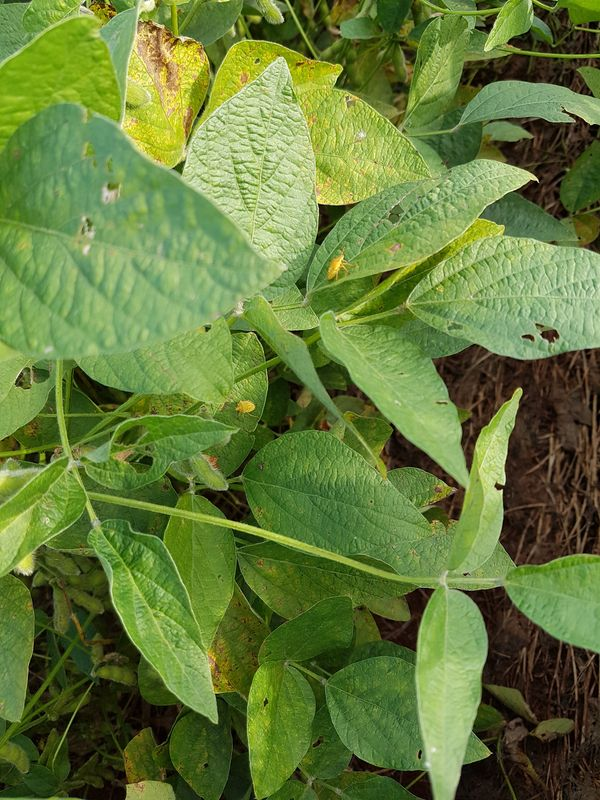Euschistus_heros_ninfa: (321, 246, 358, 286), (229, 395, 261, 423)
